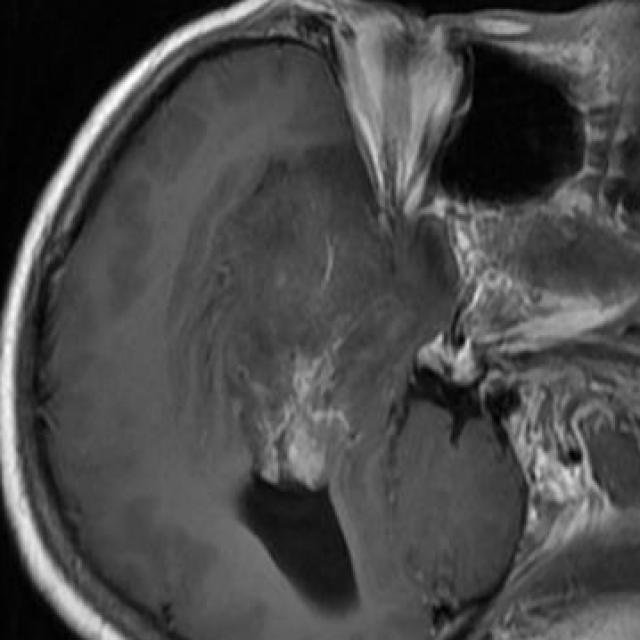glioma: (198, 148, 462, 492)
